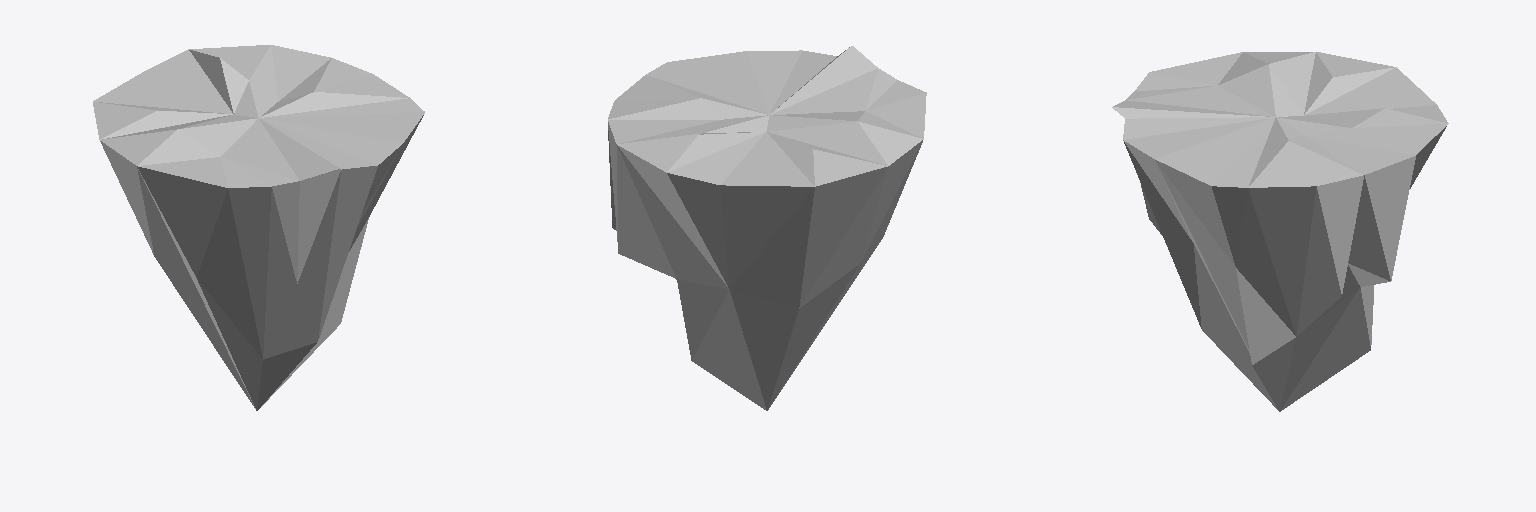
Rendered from Island.obj.
3 renders of one model, left to right at view 1: azimuth 30°, elevation 25°; view 2: azimuth 150°, elevation 25°; view 3: azimuth 270°, elevation 25°, orthographic.
Parts seen in each view (by area): view 1: Island_Cone.001; view 2: Island_Cone.001; view 3: Island_Cone.001.
Boxes of the visible parts, box(x1,y1,x2,y2) form: Island_Cone.001: box(93, 45, 424, 410); Island_Cone.001: box(608, 46, 926, 410); Island_Cone.001: box(1112, 52, 1448, 411).
Bounding box in the file's own units: 8.61 × 9.24 × 9.07.